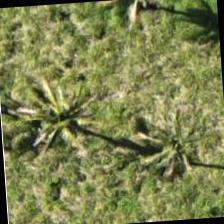Kelapa_Sawit: (14, 69, 110, 166), (118, 108, 214, 204)
